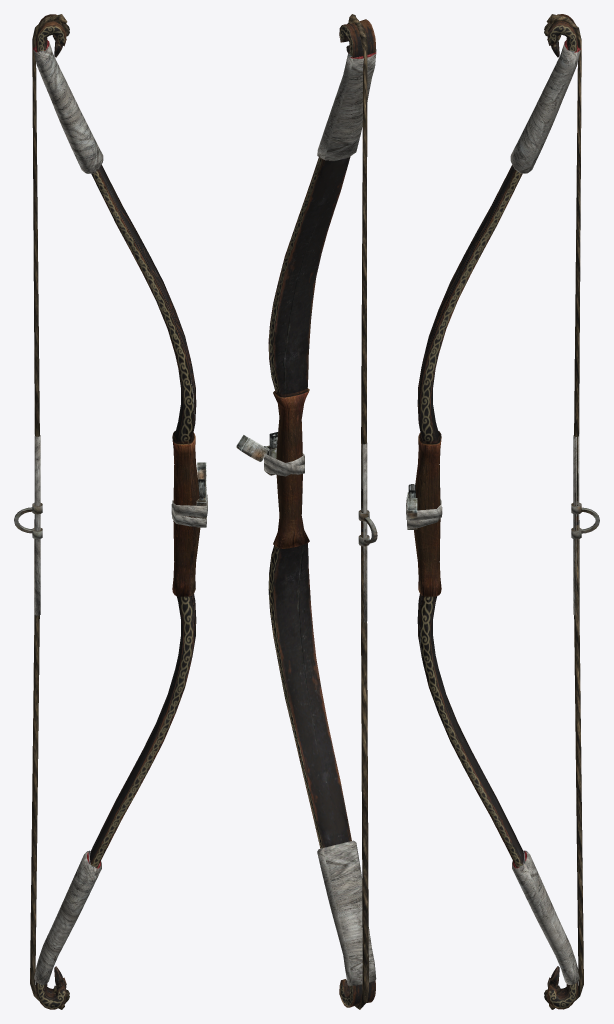
File: Bow_recurve.obj
The picture shows the model from 3 angles, left to right: view 1: azimuth 90°, elevation 25°; view 2: azimuth 210°, elevation 25°; view 3: azimuth 270°, elevation 25°; orthographic projection.
Bounding box in the file's own units: 0.1643 × 2.45 × 0.4323.
Materials: 2 (2 with a texture image).
